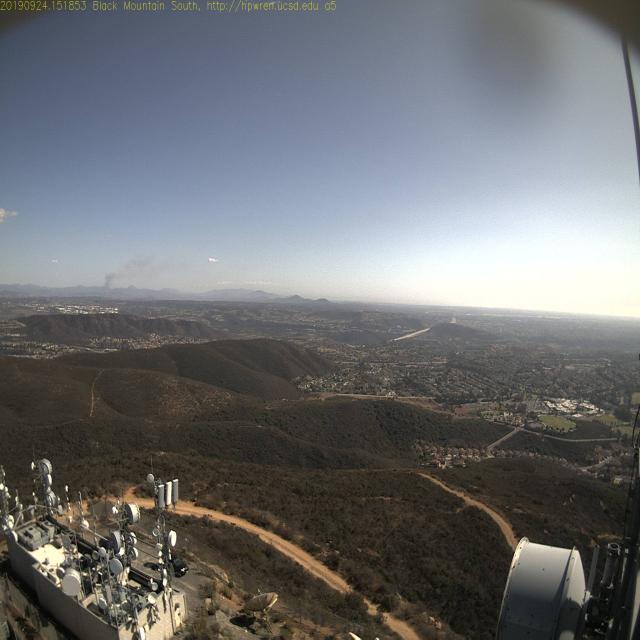smoke: (98, 267, 125, 296)
